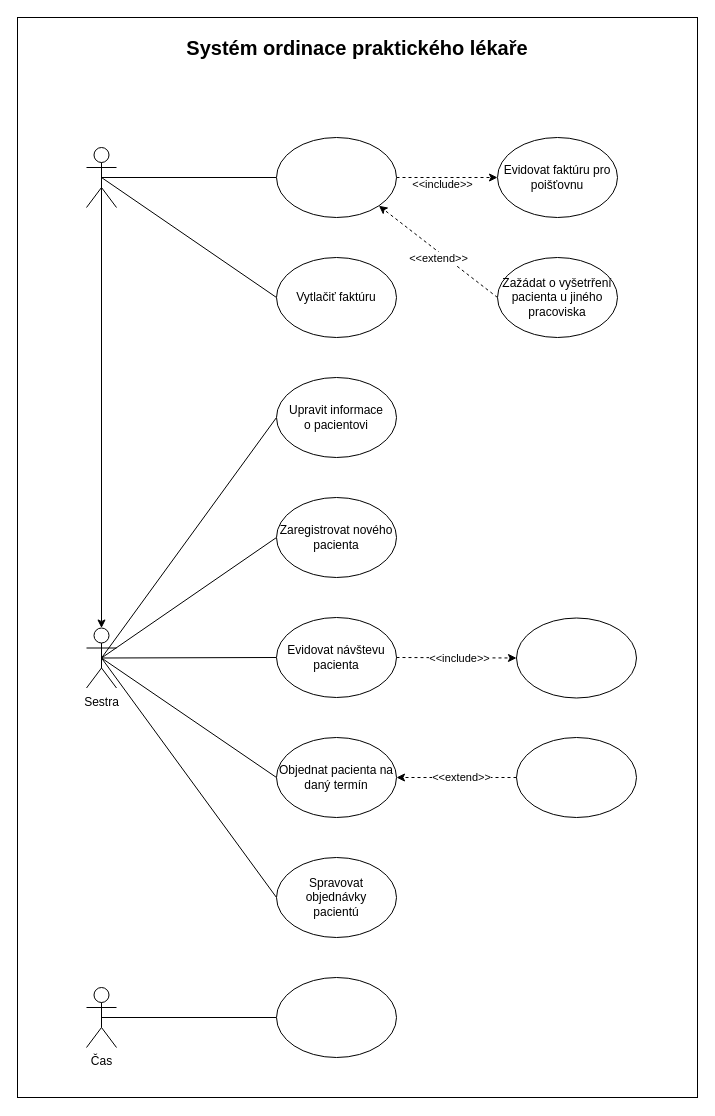
The diagram is 715 pixels wide and 1116 high, and some of its shapes have lost their labels. The shapes that lost their labels are listed below. From the top down, each one's centre as x and y in pixels, then its label:
At [101,177]: "Lékař".
At [336,177]: "Ošetřit pacienta".
At [576,657]: "Evidovat provedené výkony a předepsané léky".
At [576,777]: "Specifikovat plánované výkony".
At [336,1017]: "Pozvat pacienta na přehlídku nebo očkování".
